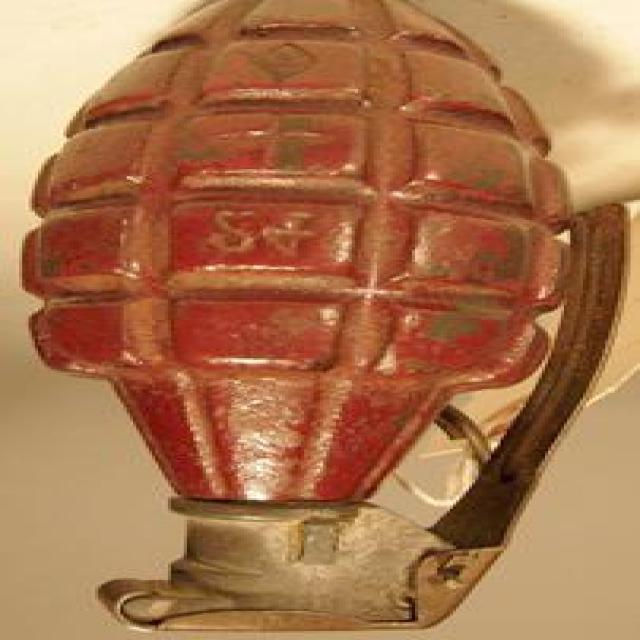grenade: (23, 3, 638, 635)
